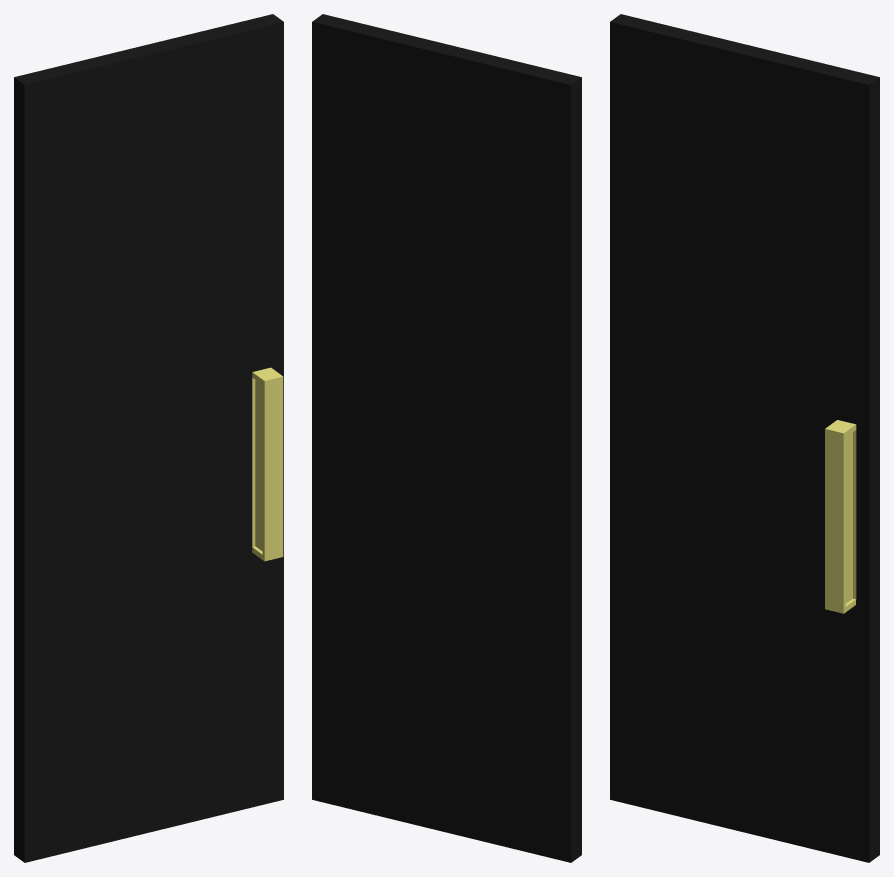
The model's file is Itr_Wardrobe3_Door_Left_03.FBX.
3 renders of one model, left to right at view 1: azimuth 30°, elevation 25°; view 2: azimuth 150°, elevation 25°; view 3: azimuth 330°, elevation 25°, orthographic.
Parts seen in each view (by area): view 1: Itr_Wardrobe3_Door_Left_03; view 2: Itr_Wardrobe3_Door_Left_03; view 3: Itr_Wardrobe3_Door_Left_03.
Boxes of the visible parts, x1=… form: Itr_Wardrobe3_Door_Left_03: x1=14, y1=14, x2=283, y2=862; Itr_Wardrobe3_Door_Left_03: x1=312, y1=14, x2=581, y2=862; Itr_Wardrobe3_Door_Left_03: x1=610, y1=14, x2=879, y2=862.
Size of the model in its own units: 20.07 by 57.59 by 3.1.
